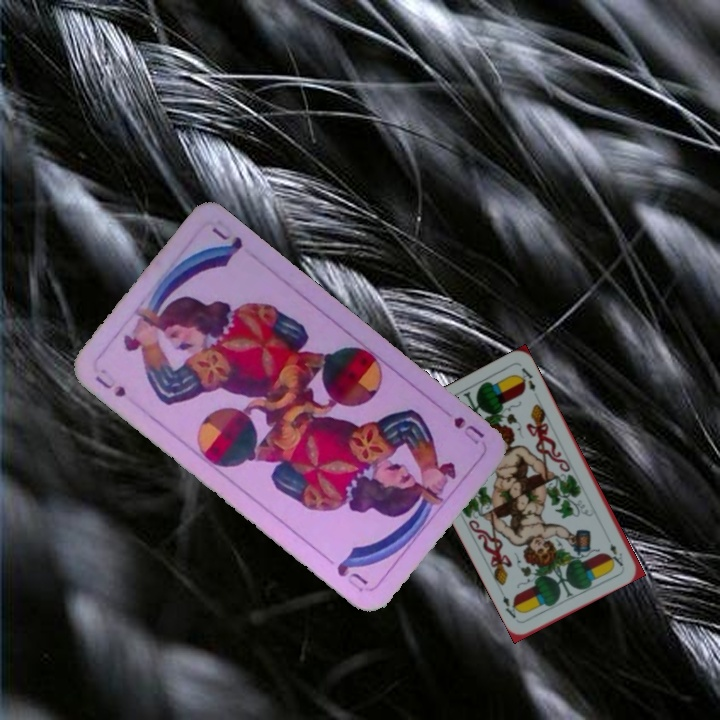EA: (606, 539, 626, 569)
SU: (449, 412, 487, 447), (90, 367, 129, 400)
